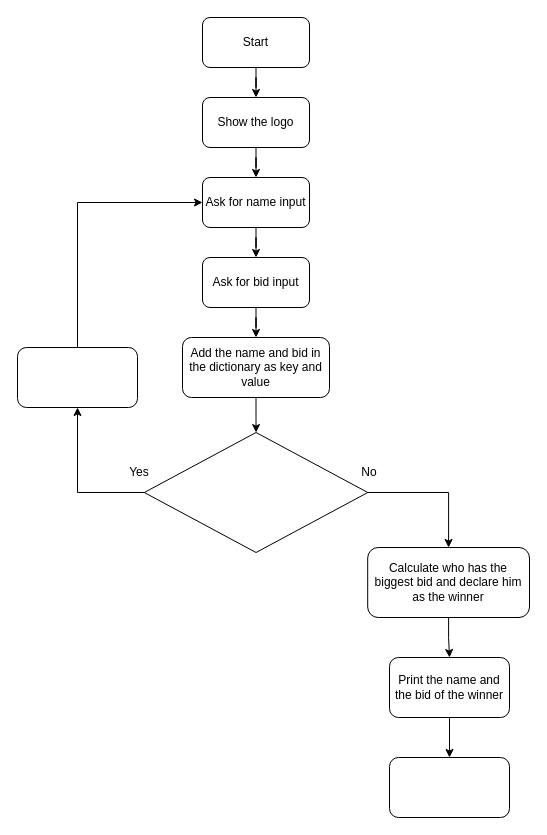
Some shapes in this 547 by 835 pixel diagram are drawn without their labels. Each missing label, with the box of its shape:
Ask if there is any other user that wants to bid: (143, 432, 368, 552)
Clear the terminal: (16, 346, 138, 408)
End: (388, 756, 510, 818)
